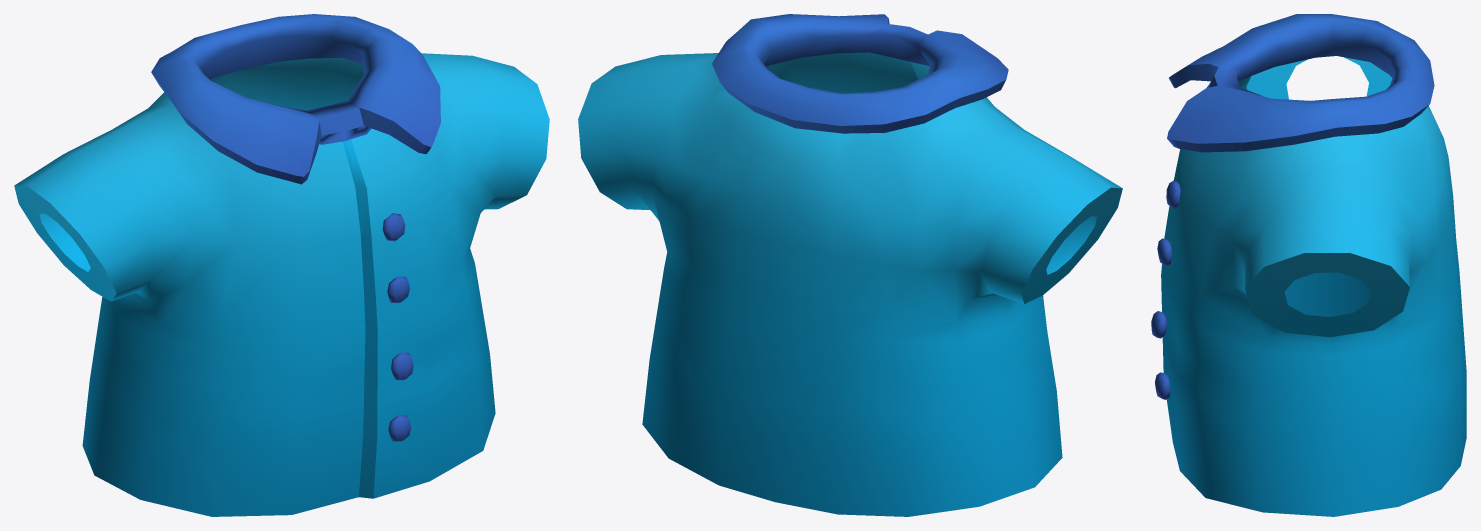
Rendered from Outwear_53.glb.
The picture shows the model from 3 angles, left to right: view 1: azimuth 30°, elevation 25°; view 2: azimuth 150°, elevation 25°; view 3: azimuth 270°, elevation 25°; orthographic projection. The views are drawn at different scales.
Visible parts, largest first — view 1: Outwear_53; view 2: Outwear_53; view 3: Outwear_53.
Part boxes in pixels (left/top/right/bottom): Outwear_53: left=14, top=14, right=549, bottom=516; Outwear_53: left=578, top=14, right=1122, bottom=516; Outwear_53: left=1151, top=14, right=1466, bottom=516.
Bounding box in the file's own units: 0.3556 × 0.2741 × 0.2054.
1 material, 1 textured.
